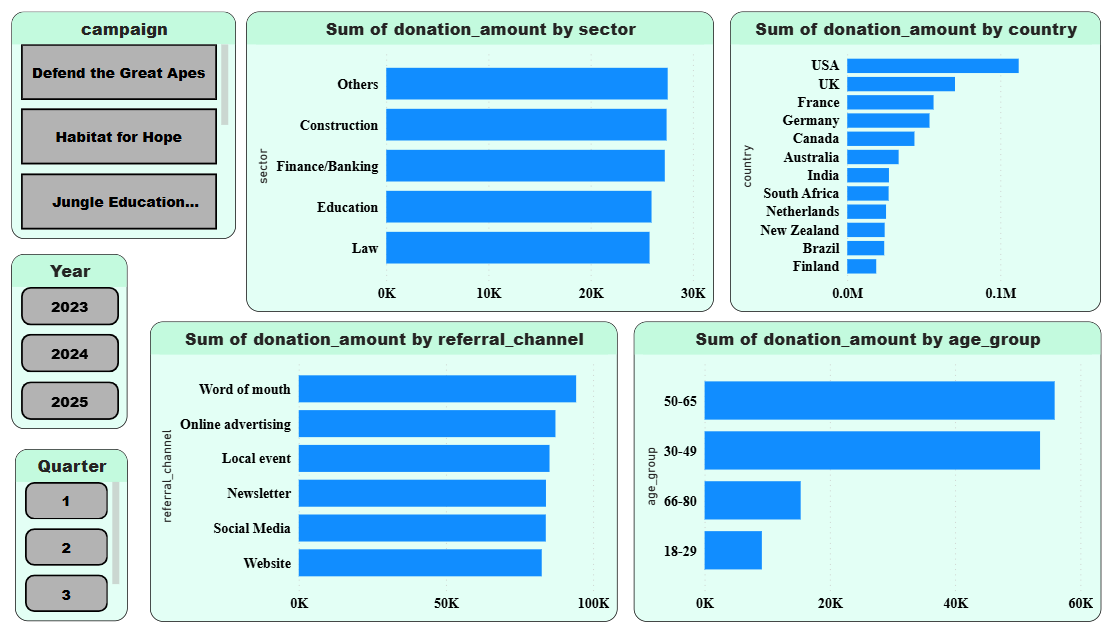

The page's visual inventory and layout, read from the dashboard file:
{"tool":"powerbi","page":{"name":"Page 2","canvas":[1280,720],"ordinal":1},"visuals":[{"type":"clusteredBarChart","fields":{"Category":["animal_charity_donation_records.sector"],"Y":["Sum(animal_charity_donation_records.donation_amount)"]},"box":[281.4,14.3,534.3,342.9],"z":0},{"type":"clusteredBarChart","fields":{"Category":["animal_charity_donation_records.country"],"Y":["Sum(animal_charity_donation_records.donation_amount)"]},"box":[834.3,14.3,424.3,342.9],"z":1000},{"type":"clusteredBarChart","fields":{"Category":["animal_charity_donation_records.referral_channel"],"Y":["Sum(animal_charity_donation_records.donation_amount)"]},"box":[171.4,368.6,534.3,342.9],"z":2000},{"type":"advancedSlicerVisual","fields":{"Values":["animal_charity_donation_records.donation_date.Variation.Date Hierarchy.Year"]},"box":[12.9,291.4,132.9,200],"z":3000},{"type":"advancedSlicerVisual","fields":{"Values":["animal_charity_donation_records.Quarter"]},"box":[17.1,514.3,128.6,197.1],"z":4000},{"type":"clusteredBarChart","fields":{"Y":["Sum(animal_charity_donation_records.donation_amount)"],"Category":["animal_charity_donation_records.age_group"]},"box":[724.3,368.6,534.3,342.9],"z":5000},{"type":"advancedSlicerVisual","fields":{"Values":["animal_charity_donation_records.campaign"]},"box":[12.9,14.3,257.1,260],"z":6000}]}

Visuals, with their boxes in screenshot pixels (x1, y1, x2, y2), scaled from the page's 1280x720 canvas onto the 1119x627 screenshot:
clusteredBarChart - animal_charity_donation_records.sector x Sum(animal_charity_donation_records.donation_amount): {"left": 246, "top": 12, "right": 713, "bottom": 311}
clusteredBarChart - animal_charity_donation_records.country x Sum(animal_charity_donation_records.donation_amount): {"left": 729, "top": 12, "right": 1100, "bottom": 311}
clusteredBarChart - animal_charity_donation_records.referral_channel x Sum(animal_charity_donation_records.donation_amount): {"left": 150, "top": 321, "right": 617, "bottom": 620}
advancedSlicerVisual - animal_charity_donation_records.donation_date.Variation.Date Hierarchy.Year: {"left": 11, "top": 254, "right": 127, "bottom": 428}
advancedSlicerVisual - animal_charity_donation_records.Quarter: {"left": 15, "top": 448, "right": 127, "bottom": 620}
clusteredBarChart - Sum(animal_charity_donation_records.donation_amount) x animal_charity_donation_records.age_group: {"left": 633, "top": 321, "right": 1100, "bottom": 620}
advancedSlicerVisual - animal_charity_donation_records.campaign: {"left": 11, "top": 12, "right": 236, "bottom": 239}
